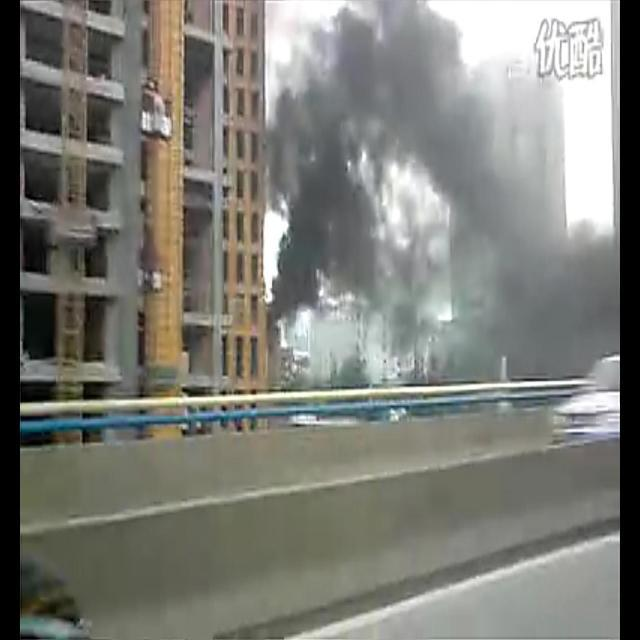Smoke: (264, 1, 622, 390)
